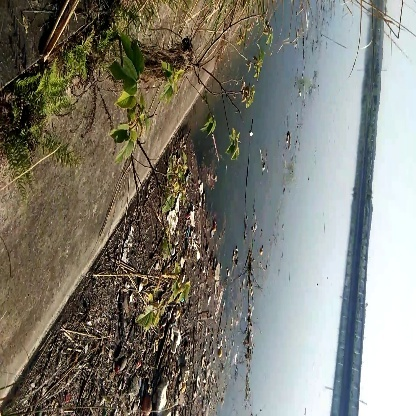plastic-garbage: (150, 377, 177, 414)
